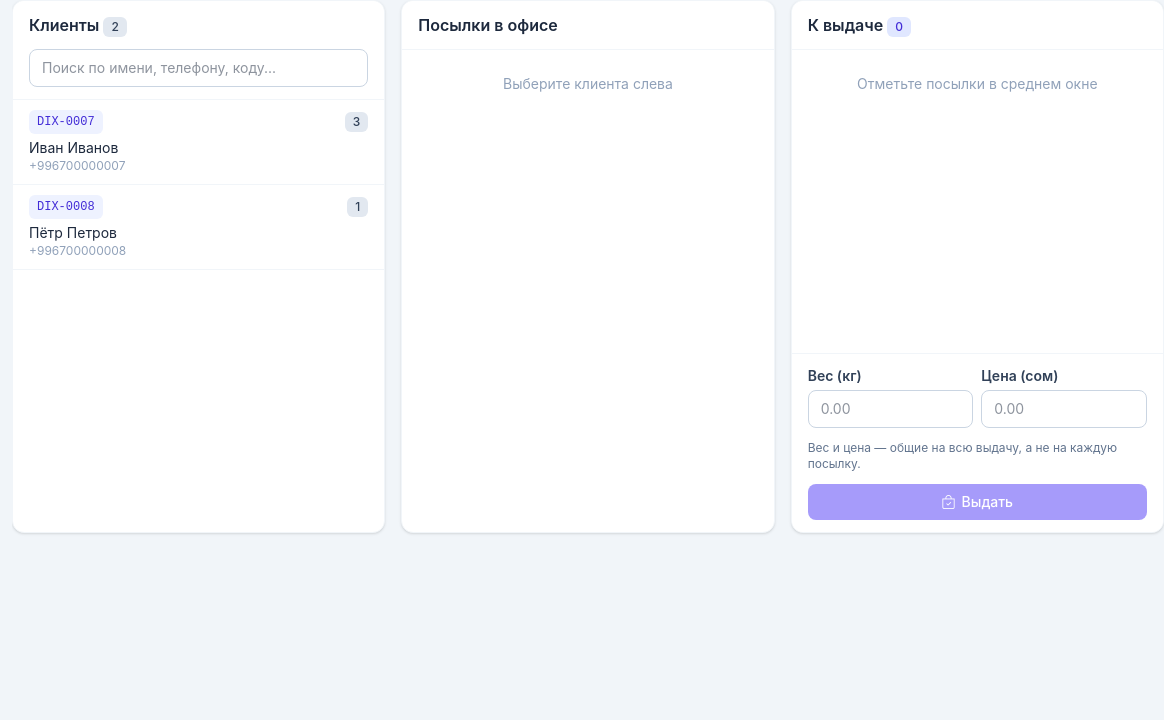
Scenario: DeliveryView › issues selected packages with weight/price via DELIVERED and reloads
Click the button with test id "client-row" that starts with "DIX-0007": (66, 122) [13,100,384,185]
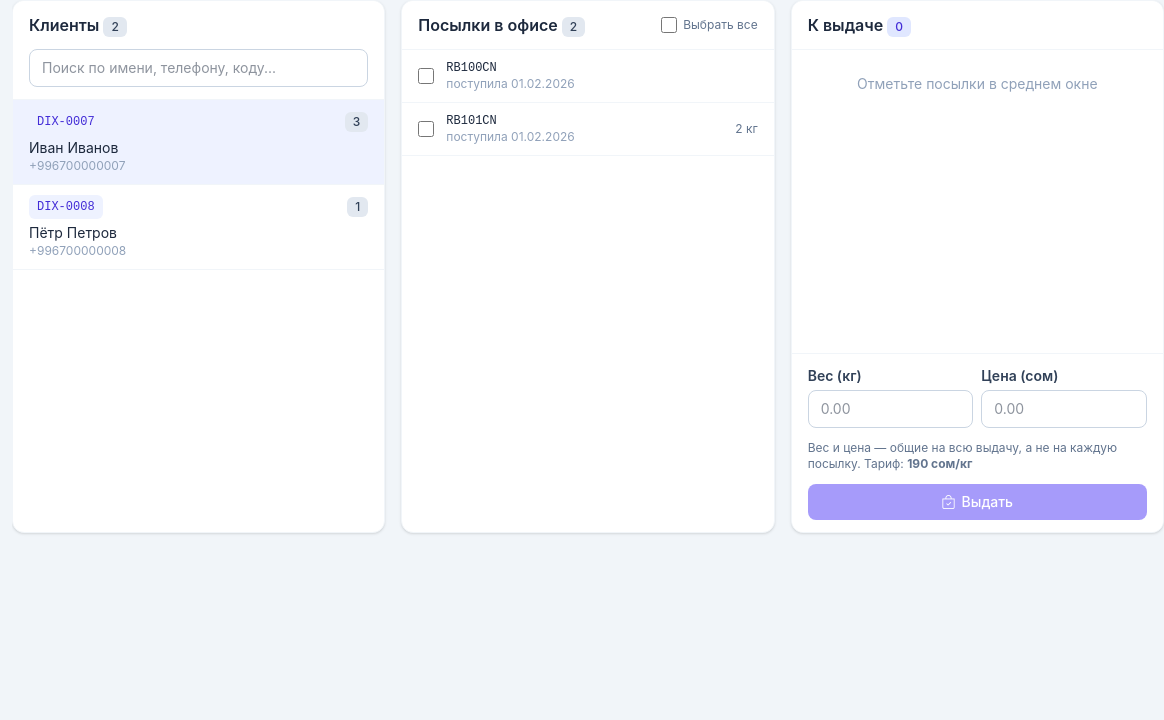
Click the checkbox labelled "RB100CN поступила 01.02.2026": (426, 76) [418,68,434,84]
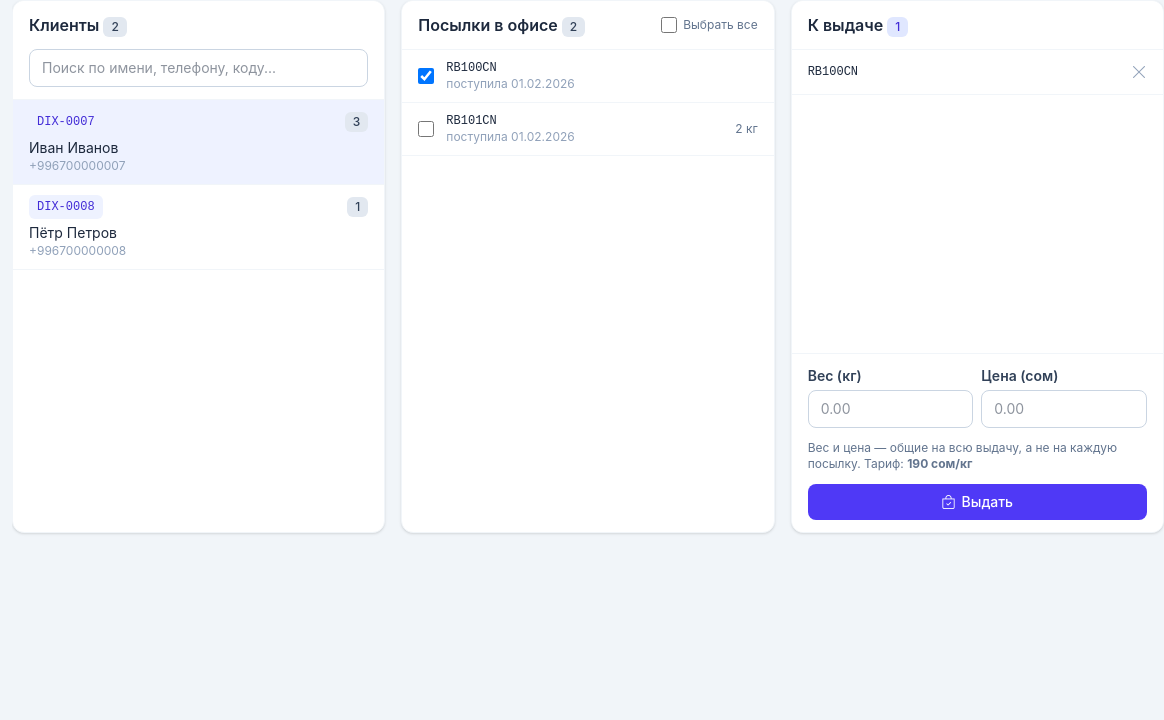
In the number field with test id "deliver-weight": (891, 409) [808,390,973,428], type "5"
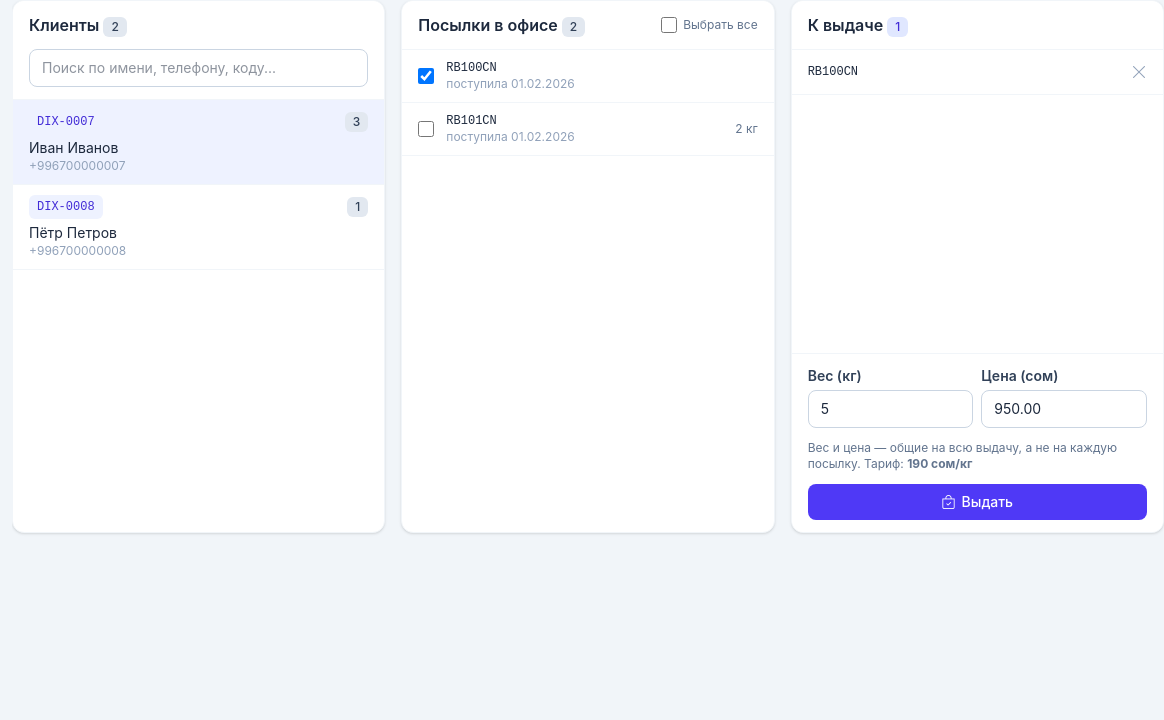
Now the number field with test id "deliver-price" holds "950.00", box [981,390,1147,428]
Click the button with test id "deliver-btn": (977, 502) [808,484,1147,520]
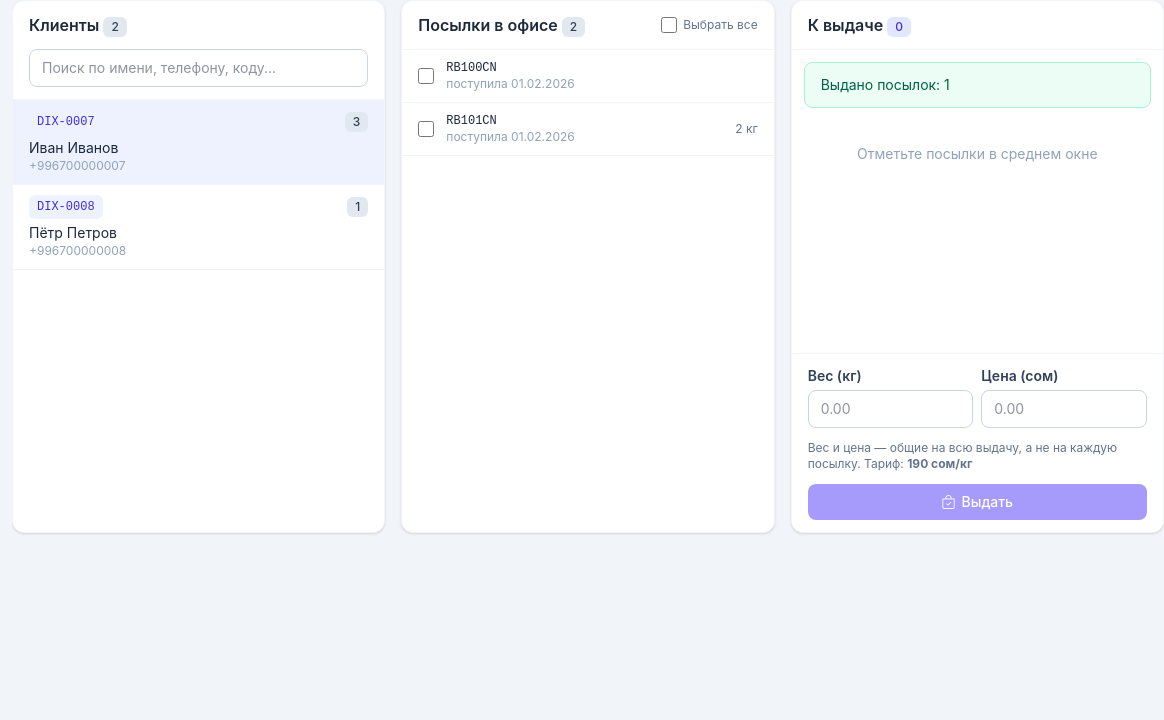
Now the text "Выдано посылок: 1" is shown, box [804,62,1151,108]
